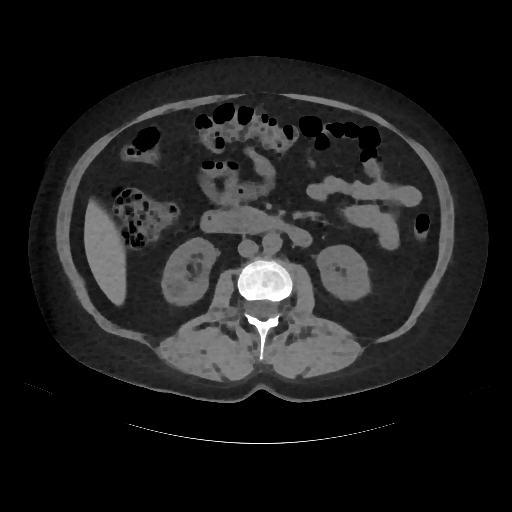Lesion: (165, 280, 187, 299)
